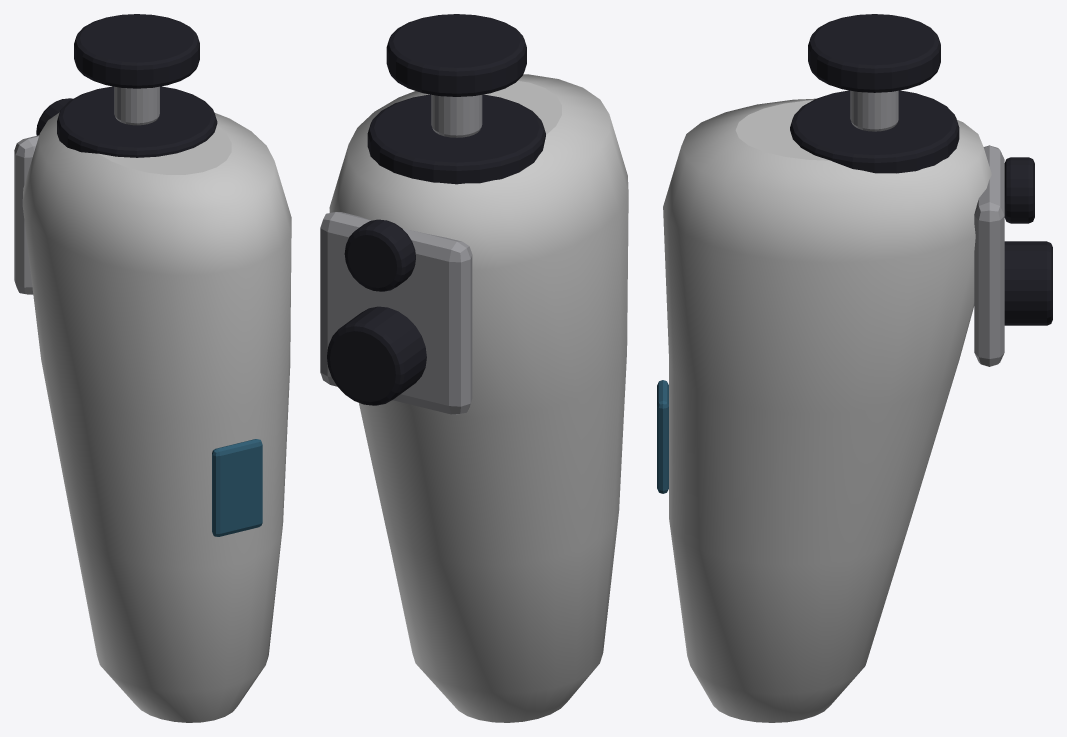
File: con-stick-grip.glb
3 renders of one model, left to right at view 1: azimuth 30°, elevation 25°; view 2: azimuth 150°, elevation 25°; view 3: azimuth 270°, elevation 25°, orthographic. The views are drawn at different scales.
Visible parts, largest first — view 1: hand_grip_lod0, stick_cap_lod0, stick_socket_lod0, rear_inset_lod0, front_inlay_lod0, stick_stem_lod0; view 2: hand_grip_lod0, front_inlay_lod0, stick_socket_lod0, stick_cap_lod0, button_z_cap_lod0, button_c_cap_lod0, stick_stem_lod0; view 3: hand_grip_lod0, stick_socket_lod0, stick_cap_lod0, front_inlay_lod0, button_z_cap_lod0, button_c_cap_lod0, stick_stem_lod0, rear_inset_lod0.
Part boxes in pixels (x1,y1,x2,y2): hand_grip_lod0: (22,112,291,722); stick_cap_lod0: (74,14,199,88); stick_socket_lod0: (57,86,217,157); rear_inset_lod0: (212,439,262,536); front_inlay_lod0: (14,135,39,294); stick_stem_lod0: (114,86,159,125); hand_grip_lod0: (329,74,628,722); front_inlay_lod0: (320,212,472,414); stick_socket_lod0: (367,94,545,184); stick_cap_lod0: (386,14,526,96); button_z_cap_lod0: (327,306,426,405); button_c_cap_lod0: (344,219,415,291); stick_stem_lod0: (431,94,482,137); hand_grip_lod0: (663,98,991,722); stick_socket_lod0: (790,90,959,173); stick_cap_lod0: (808,14,940,92); front_inlay_lod0: (974,145,1004,366); button_z_cap_lod0: (1004,241,1052,325); button_c_cap_lod0: (1004,157,1034,223); stick_stem_lod0: (850,90,898,131); rear_inset_lod0: (657,380,668,493).
Size of what is drawn, in the model's own units: 0.044 by 0.1205 by 0.0655.
